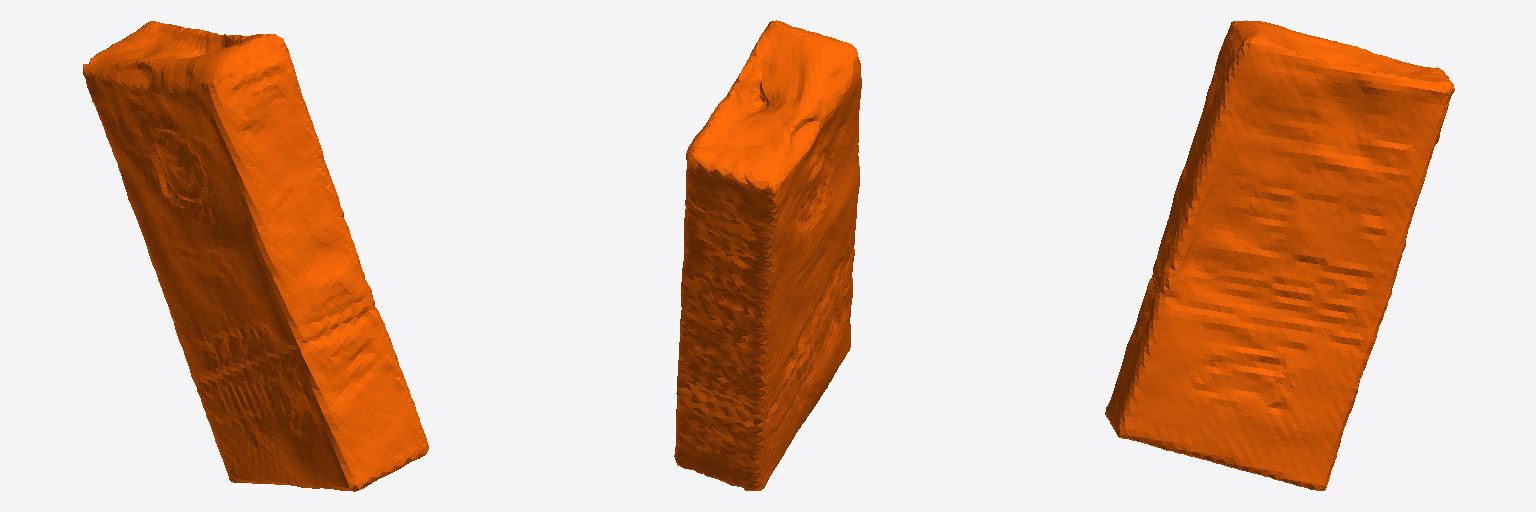
The robot description file, URDF, robot "14680ffbf":
<?xml version="1.0" ?>
<robot name="14680ffbf">
   <material name="obj_color">
      <color rgba="1.0 0.423529411765 0.0392156862745 1.0"/>
   </material>
   <link name="top">
      <inertial>
         <origin rpy="0.001228951736302243 0.004087970586353956 0.004938278997357118" xyz="-0.000682679195066462 -0.00100419160864826 -0.001860941734351884"/>
         <mass value="1.042309630768555"/>
         <inertia ixx="0.004778370584121353" ixy="0.0002849726342293288" ixz="0.0006883724990271503" iyy="0.003846757027278143" iyz="-0.0007780706201293106" izz="0.001630073708613819"/>
      </inertial>
      <visual>
         <origin rpy="0 0 0" xyz="0 0 0"/>
         <geometry>
            <mesh filename="top_watertight_tiny.stl" scale="1 1 1"/>
         </geometry>
         <material name="obj_color"/>
      </visual>
      <collision>
         <origin rpy="0 0 0" xyz="0 0 0"/>
         <geometry>
            <mesh filename="top_watertight_tiny.obj" scale="1 1 1"/>
         </geometry>
      </collision>
   </link>
   <link name="bottom">
      <inertial>
         <origin rpy="1.633333333199431e-08 1.633333333199431e-08 1.633333333362855e-08" xyz="0.3464080000000008 0.3464080000000008 0.3464080000000008"/>
         <mass value="0.0009800000000000017"/>
         <inertia ixx="1.633333333253906e-08" ixy="5.447480642029219e-19" ixz="5.447480642029219e-19" iyy="1.633333333253906e-08" iyz="5.447480642029219e-19" izz="1.633333333253906e-08"/>
      </inertial>
      <visual>
         <origin rpy="0 0 0" xyz="0 0 0"/>
         <geometry>
            <mesh filename="bottom_watertight_tiny.stl" scale="1 1 1"/>
         </geometry>
         <material name="obj_color"/>
      </visual>
   </link>
   <joint name="rotation" type="revolute">
      <origin xyz="0 0 0"/>
      <axis xyz="0 0 -1"/>
      <parent link="bottom"/>
      <child link="top"/>
      <dynamics damping="1.0" friction="1.0"/>
      <limit effort="0.1" velocity="0.1" lower="0" upper="0.001"/>
   </joint>
</robot>

--- Render facts (derived) ---
The picture shows the robot from 3 angles, left to right: view 1: azimuth 30°, elevation 25°; view 2: azimuth 150°, elevation 25°; view 3: azimuth 270°, elevation 25°; orthographic projection.
Model 14680ffbf with 2 links and 1 joints (1 revolute), rooted at bottom, posed every joint at zero.
Visible links, largest first — view 1: top; view 2: top; view 3: top.
Link boxes in pixels (box(x1,y1,x2,y2)): top: box(83, 21, 428, 491); top: box(674, 20, 861, 490); top: box(1105, 20, 1454, 490).
Bounding box of the posed robot: 0.0957 × 0.171 × 0.2368 m (x, y, z).
1 mesh visuals loaded from 2 distinct referenced files (1 binary STL); not drawn: 1 (reference not matched to a file when rendering).